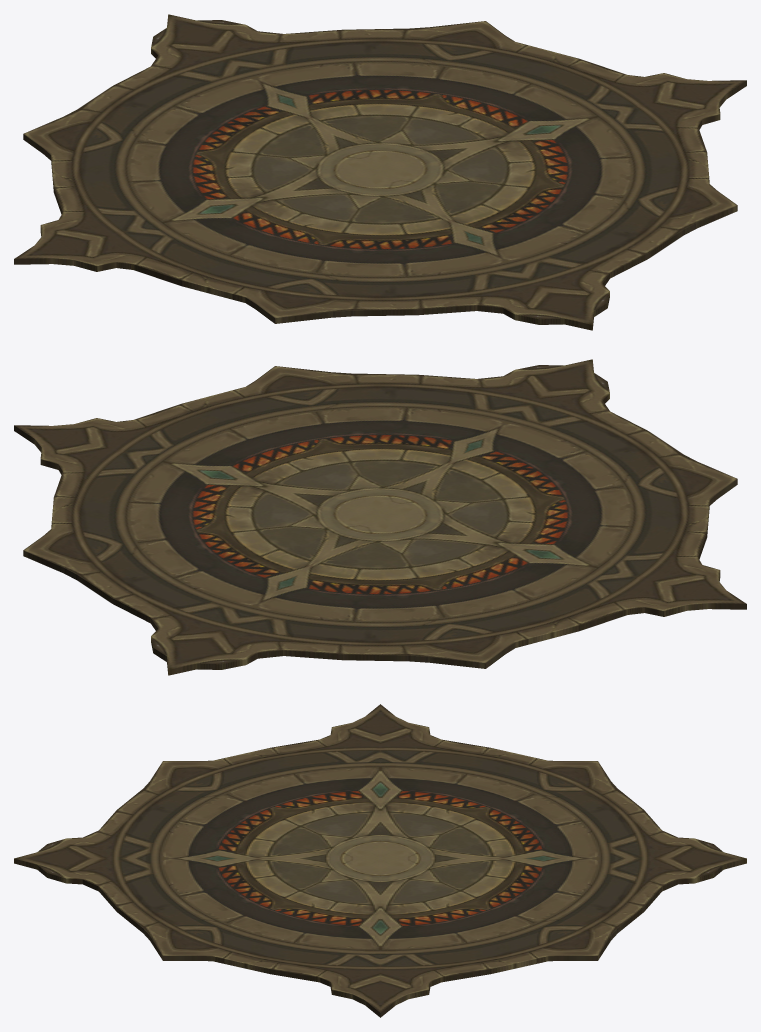
Rendered from Dxlc_taizi.FBX.
3 renders of one model, top to bottom at view 1: azimuth 30°, elevation 25°; view 2: azimuth 150°, elevation 25°; view 3: azimuth 270°, elevation 25°, orthographic. The views are drawn at different scales.
Visible parts, largest first — view 1: Dxlc_taizi; view 2: Dxlc_taizi; view 3: Dxlc_taizi.
Boxes of the visible parts, x1,y1,x2,y2 form: Dxlc_taizi: (14,14,746,330); Dxlc_taizi: (14,359,746,675); Dxlc_taizi: (14,704,746,1017).
Bounding box in the file's own units: 4.98 × 5 × 0.0374.
